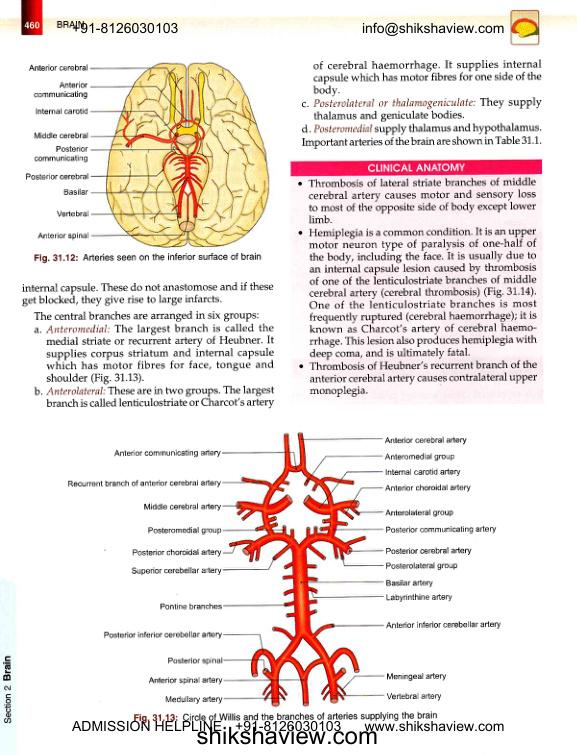caption: (133, 709, 440, 723), (33, 252, 262, 264), (367, 163, 465, 173)
image: (50, 420, 523, 707), (13, 54, 278, 250)
list: (296, 177, 539, 399), (33, 323, 275, 410), (299, 58, 542, 135)
text: (21, 281, 274, 322), (301, 136, 544, 151)
